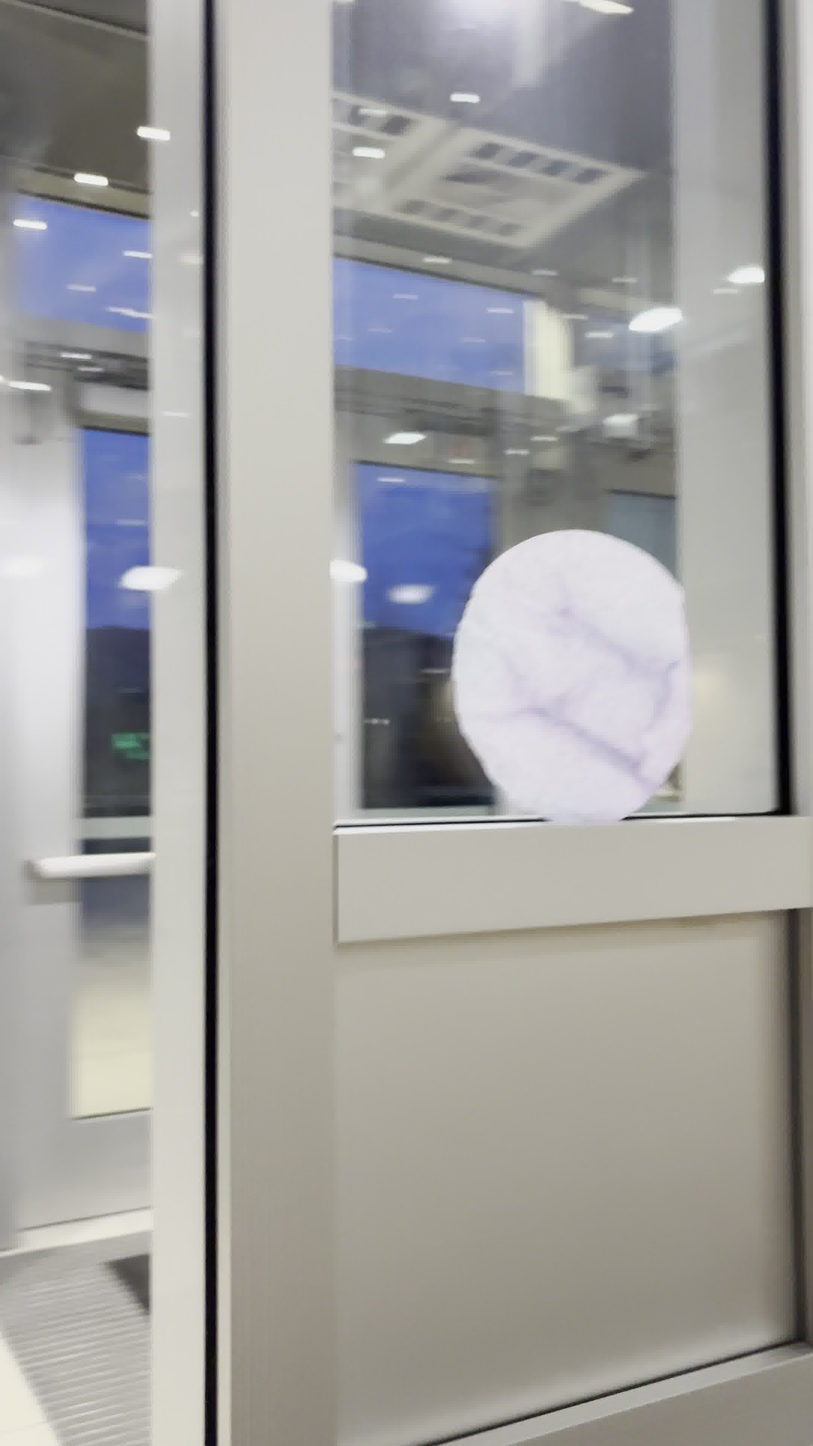Target: (447, 522, 703, 831)
